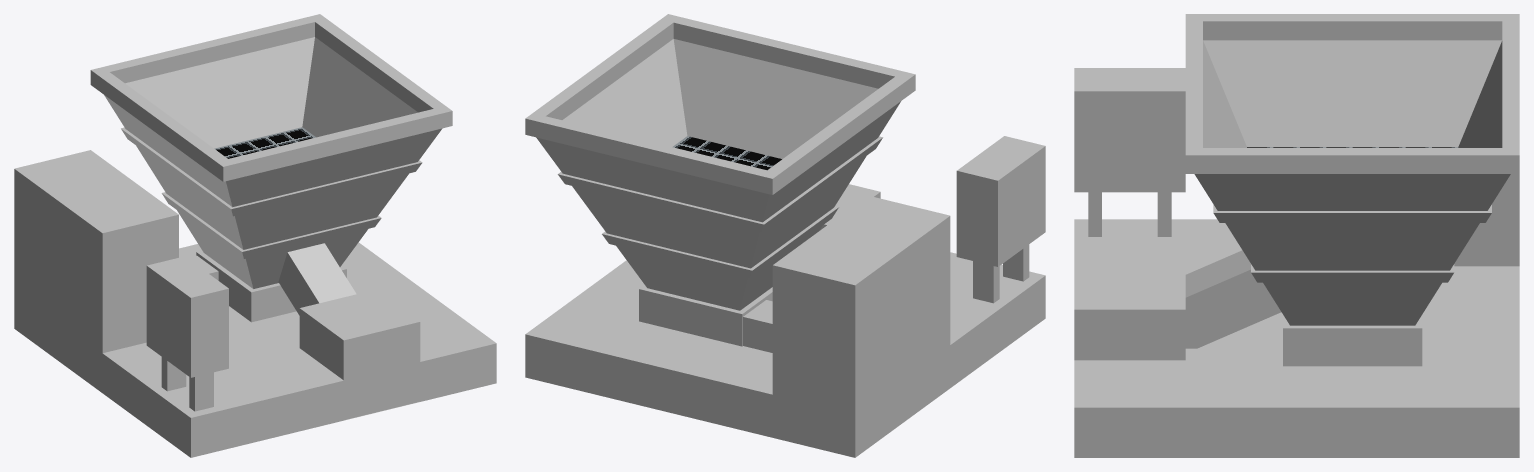
The model's file is industrial_thresher.obj.
3 views of the same model, side by side, from view 1: azimuth 30°, elevation 25°; view 2: azimuth 150°, elevation 25°; view 3: azimuth 270°, elevation 25° (orthographic). The views are drawn at different scales.
Parts seen in each view (by area): view 1: Hopper_double_wall_open, base.IE_Crusher_treated_wood_4x4, power_box.IE_Mixer_2x1, Hopper_open_top_rim, fluid_input.IE_Mixer_orange_port, redstone.IE_Crusher_box_and_legs, fluid_input.IE_Mixer_orange_port.001, Hopper_external_band_2, main_body.support_foot, Hopper_external_band_1, Safety_grid_SINGLE_FACE; view 2: Hopper_double_wall_open, base.IE_Crusher_treated_wood_4x4, power_box.IE_Mixer_2x1, Hopper_open_top_rim, redstone.IE_Crusher_box_and_legs, main_body.support_foot, Hopper_external_band_2, Hopper_external_band_1, Safety_grid_SINGLE_FACE, fluid_input.IE_Mixer_orange_port.002, fluid_input.IE_Mixer_orange_port; view 3: Hopper_double_wall_open, base.IE_Crusher_treated_wood_4x4, Hopper_open_top_rim, redstone.IE_Crusher_box_and_legs, fluid_input.IE_Mixer_orange_port, fluid_input.IE_Mixer_orange_port.001, main_body.support_foot, power_box.IE_Mixer_2x1, Hopper_external_band_2, Hopper_external_band_1.
Part boxes in pixels (x1,y1,x2,y2): Hopper_double_wall_open: (104, 37, 442, 288); base.IE_Crusher_treated_wood_4x4: (14, 242, 496, 457); power_box.IE_Mixer_2x1: (14, 150, 178, 353); Hopper_open_top_rim: (90, 14, 452, 181); fluid_input.IE_Mixer_orange_port: (299, 289, 420, 420); redstone.IE_Crusher_box_and_legs: (146, 256, 228, 411); fluid_input.IE_Mixer_orange_port.001: (278, 243, 356, 315); Hopper_external_band_2: (121, 127, 422, 216); main_body.support_foot: (196, 250, 346, 322); Hopper_external_band_1: (161, 192, 381, 258); Safety_grid_SINGLE_FACE: (214, 127, 315, 158); Hopper_double_wall_open: (536, 39, 900, 310); base.IE_Crusher_treated_wood_4x4: (525, 252, 1045, 457); power_box.IE_Mixer_2x1: (772, 195, 950, 414); Hopper_open_top_rim: (525, 14, 915, 194); redstone.IE_Crusher_box_and_legs: (956, 136, 1045, 303); main_body.support_foot: (639, 285, 772, 346); Hopper_external_band_2: (557, 136, 882, 231); Hopper_external_band_1: (602, 206, 838, 278); Safety_grid_SINGLE_FACE: (672, 136, 781, 170); fluid_input.IE_Mixer_orange_port.002: (743, 300, 772, 352); fluid_input.IE_Mixer_orange_port: (819, 184, 880, 230); Hopper_double_wall_open: (1194, 40, 1510, 325); base.IE_Crusher_treated_wood_4x4: (1074, 219, 1519, 457); Hopper_open_top_rim: (1185, 14, 1519, 173); redstone.IE_Crusher_box_and_legs: (1074, 68, 1185, 236); fluid_input.IE_Mixer_orange_port: (1074, 262, 1185, 360); fluid_input.IE_Mixer_orange_port.001: (1185, 250, 1281, 348); main_body.support_foot: (1283, 315, 1422, 366); power_box.IE_Mixer_2x1: (1454, 174, 1519, 266); Hopper_external_band_2: (1213, 204, 1491, 222); Hopper_external_band_1: (1251, 264, 1454, 282).
Bounding box in the file's own units: 4 × 3 × 4.
